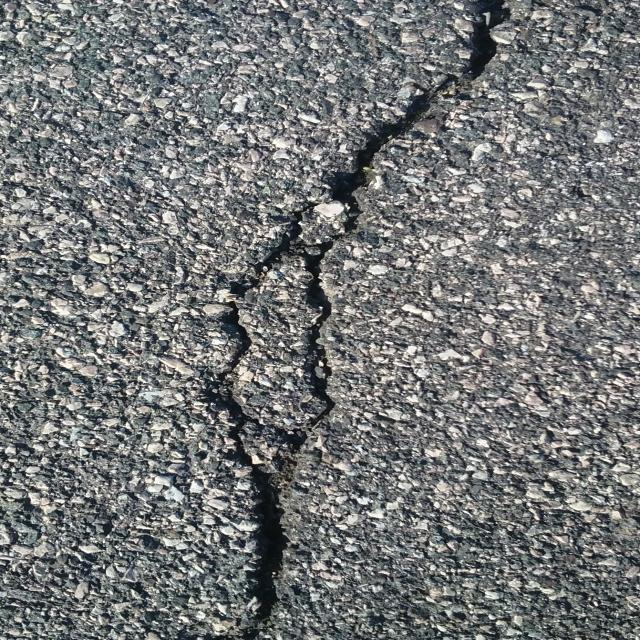Crack: (194, 0, 516, 640)
